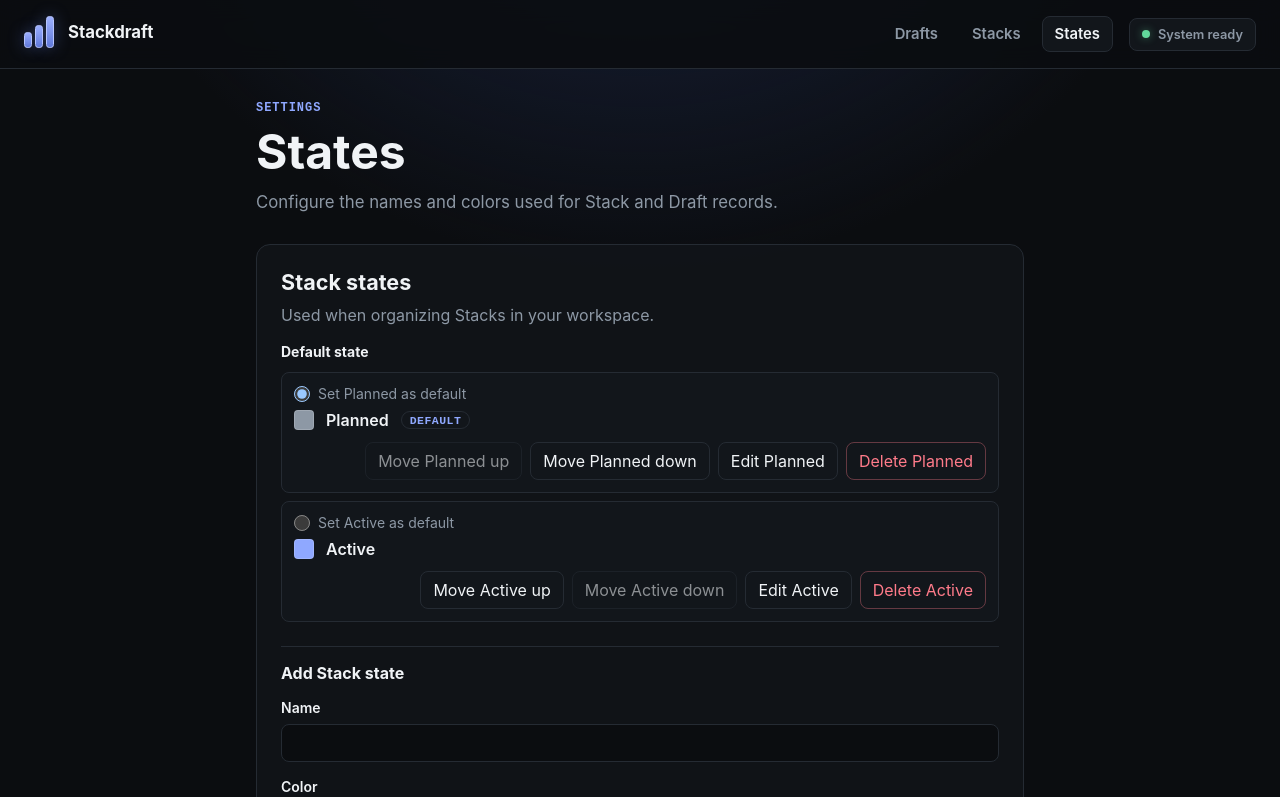
Test case: state settings screen › shows field errors beside the relevant input
Check: the text "Planned" is shown, box x1=326 y1=410 x2=389 y2=430
Type "Planned" into the field labelled "Name" at (640, 743), box x1=281 y1=724 x2=999 y2=762
(page scrolled)
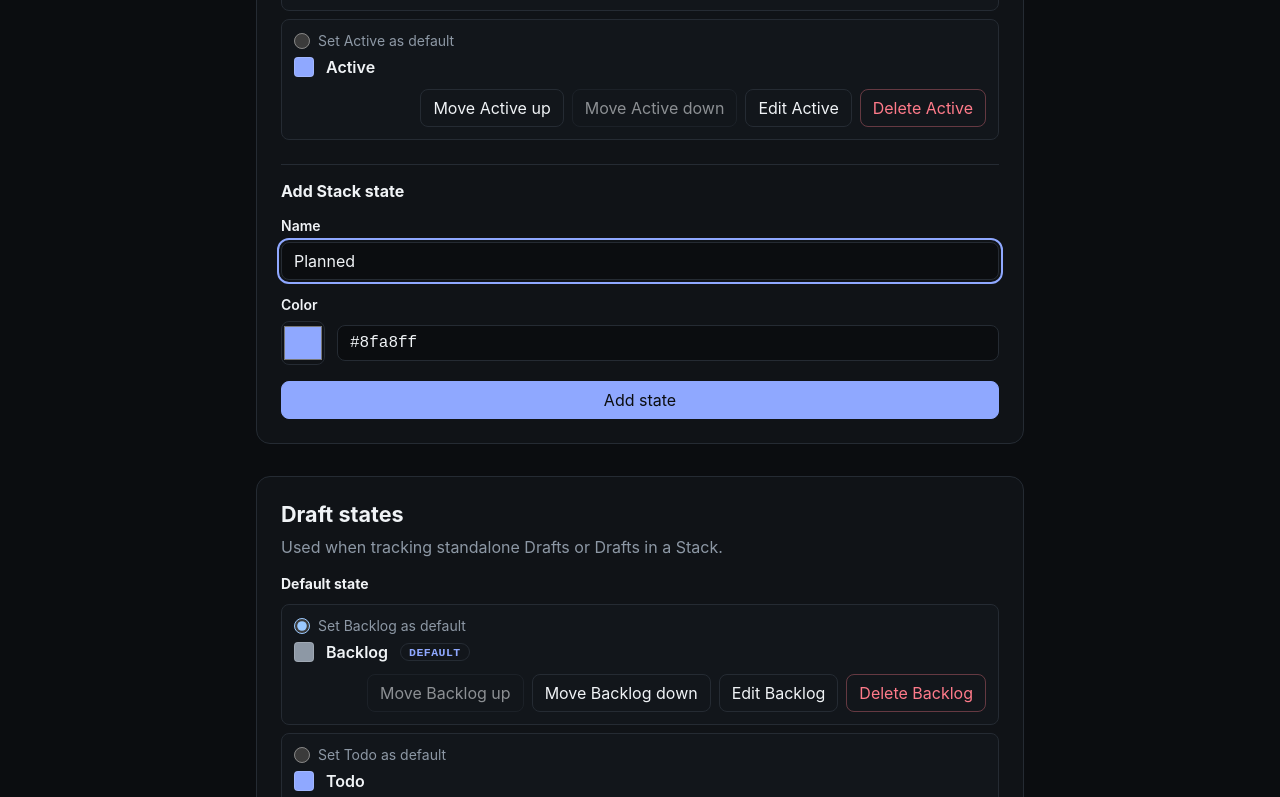
Click the button "Add state" at (640, 400), box x1=281 y1=381 x2=999 y2=419
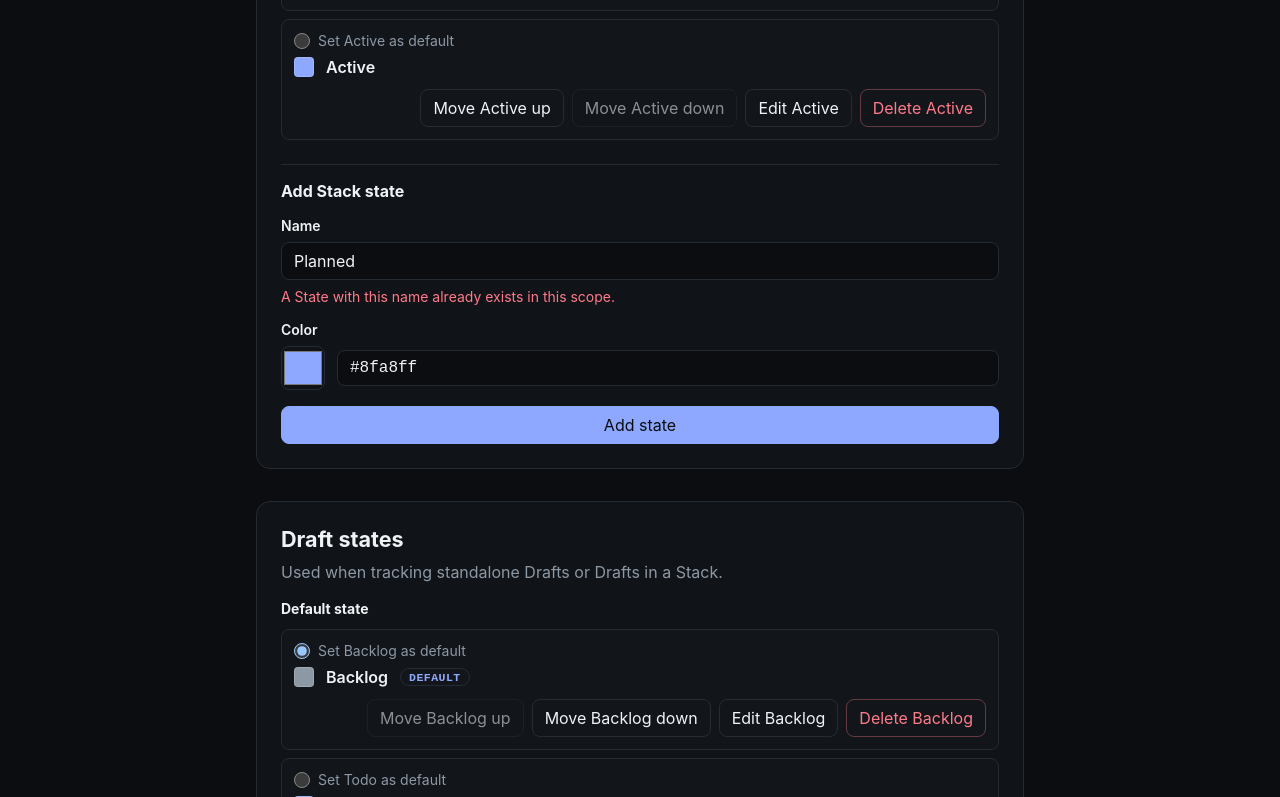
Check: the text "A State with this name already exists in this scope." is shown, box x1=281 y1=288 x2=615 y2=305
